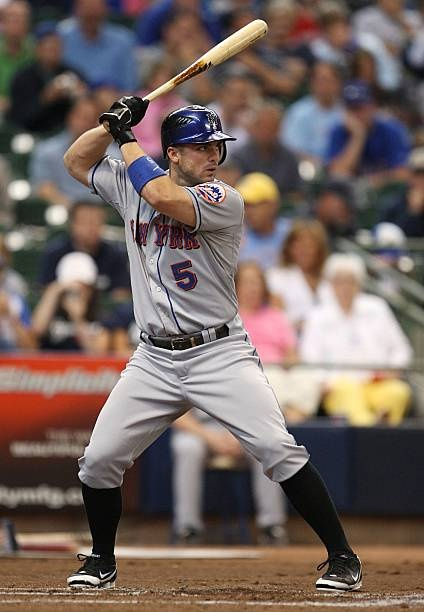bita: (121, 19, 267, 117)
